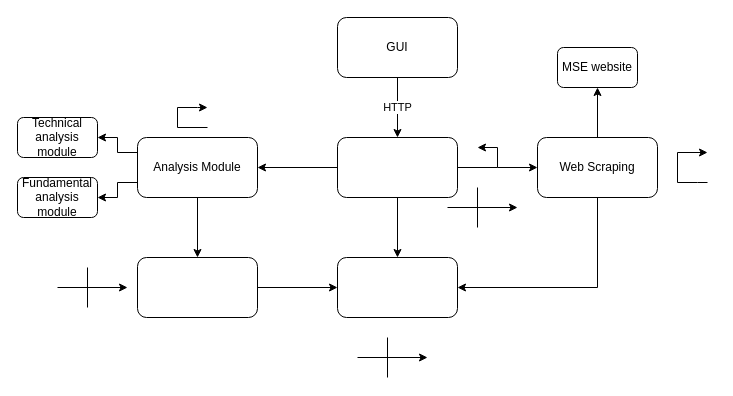
This 733x396 diagram has some shape labels left out. The centre of each missing label's shape, as x and y in pixels:
"Backend Server (Service)" belongs at (x=397, y=167).
"Database" belongs at (x=397, y=287).
"LSTM module" belongs at (x=197, y=287).
